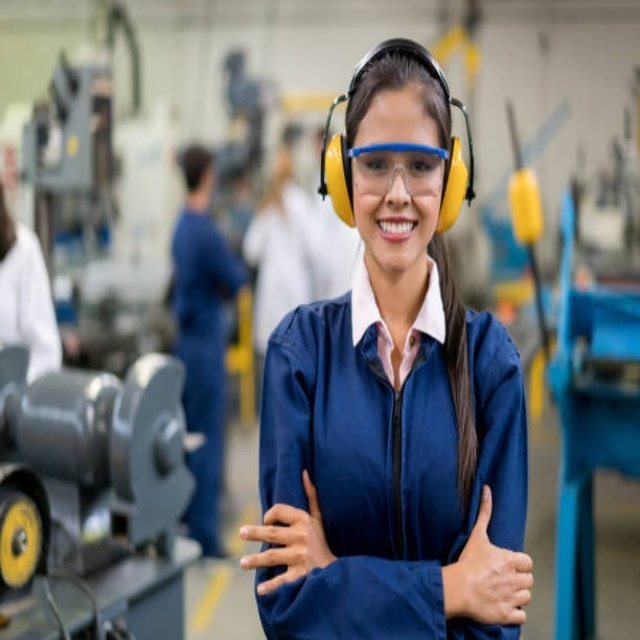Gafas: (348, 145, 450, 201)
Sin_guantes: (449, 477, 536, 632), (240, 464, 337, 591)
Sin_mascara: (369, 210, 422, 259)
